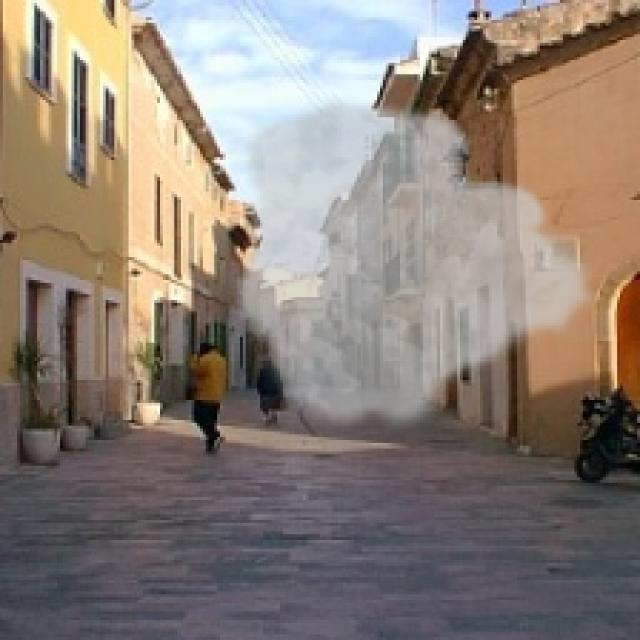smoke: (229, 94, 600, 437)
